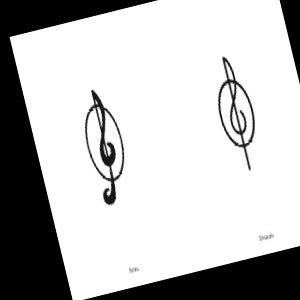stradivarius: (104, 7, 298, 122), (79, 42, 141, 117)
